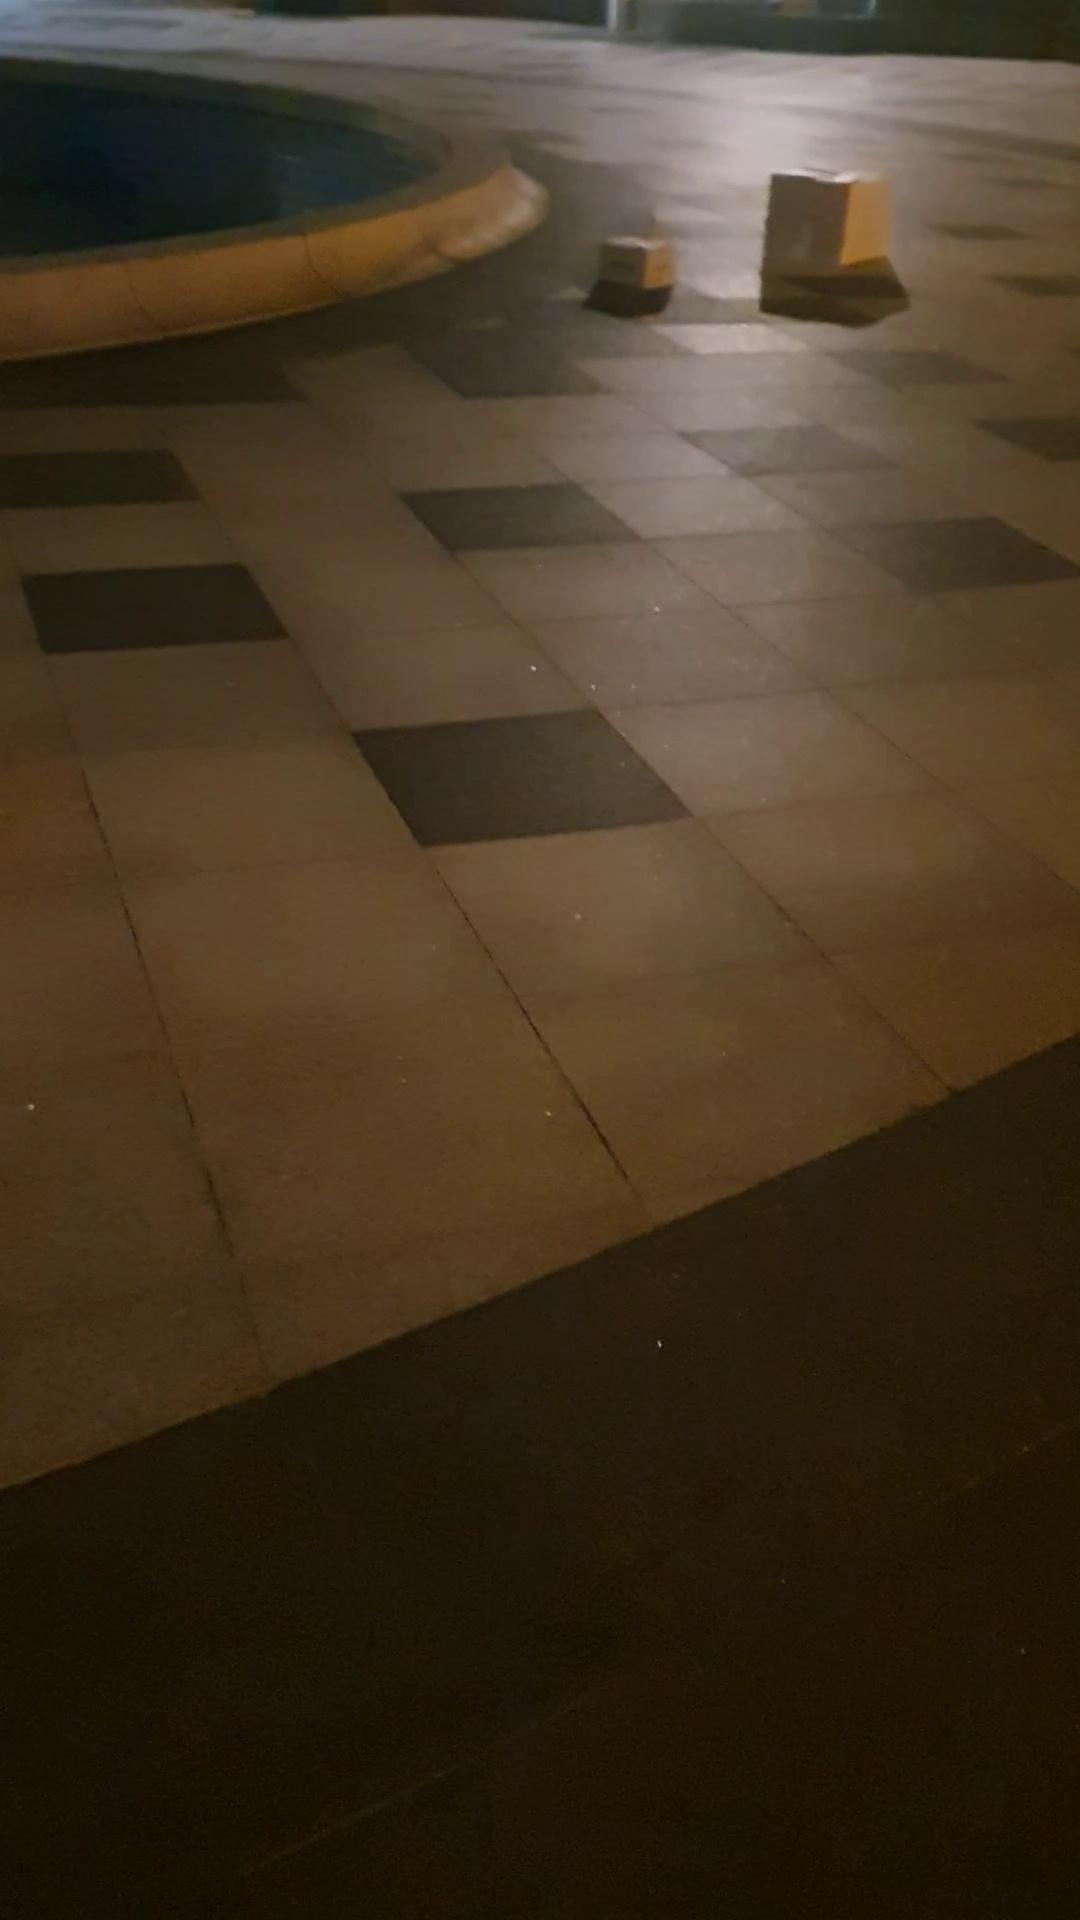Box: (753, 150, 899, 294), (588, 223, 674, 295)
